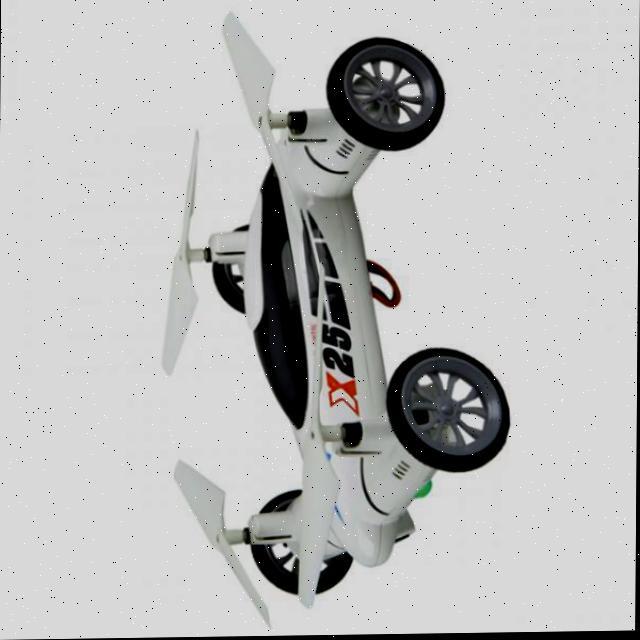drone: (11, 0, 640, 640)
